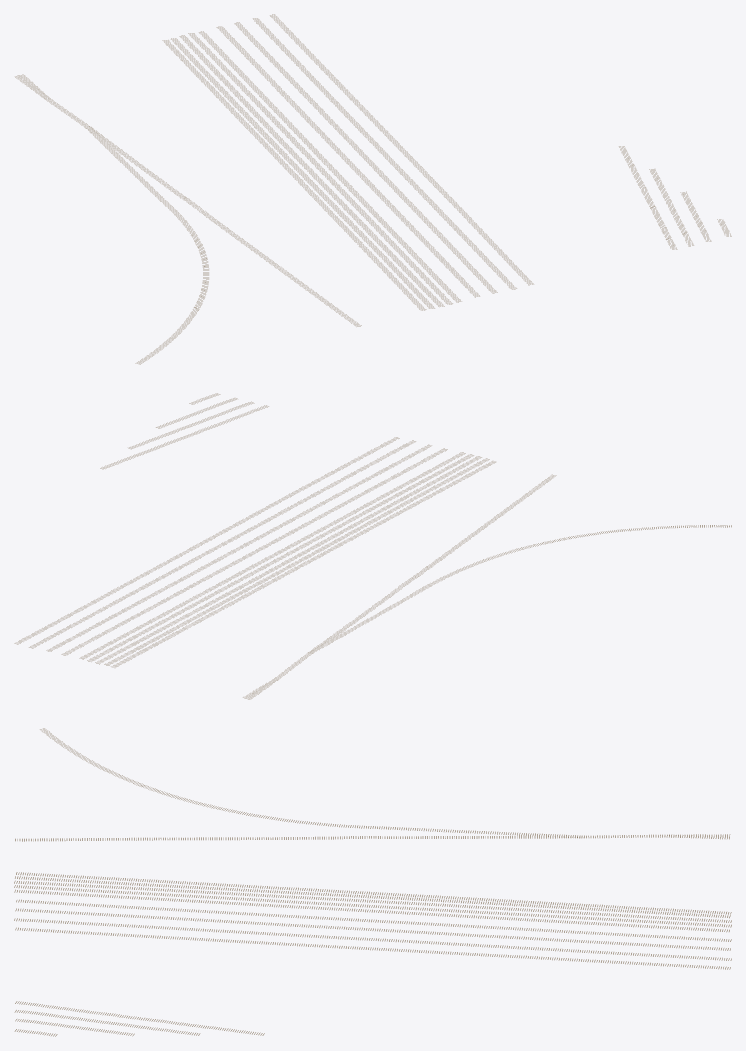
The model's file is c_1630_17827_rail_sleeper.glb.
3 views of the same model, one above another, from view 1: azimuth 30°, elevation 25°; view 2: azimuth 150°, elevation 25°; view 3: azimuth 270°, elevation 25° (orthographic). The views are drawn at different scales.
Visible parts, largest first — view 1: geometry_0; view 2: geometry_0; view 3: geometry_0.
Boxes of the visible parts, left/top/right/bottom form: geometry_0: left=15, top=14, right=731, bottom=364; geometry_0: left=14, top=393, right=731, bottom=699; geometry_0: left=14, top=728, right=731, bottom=1036.
Size of the model in its own units: 257 by 1.93 by 256.
